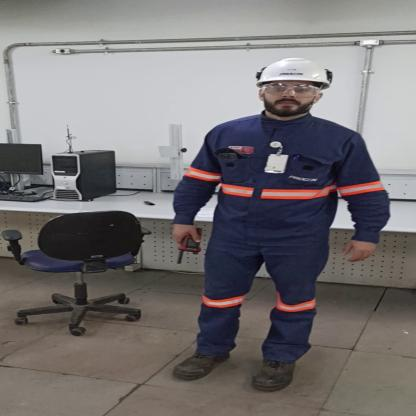Capacete: (253, 56, 333, 89)
